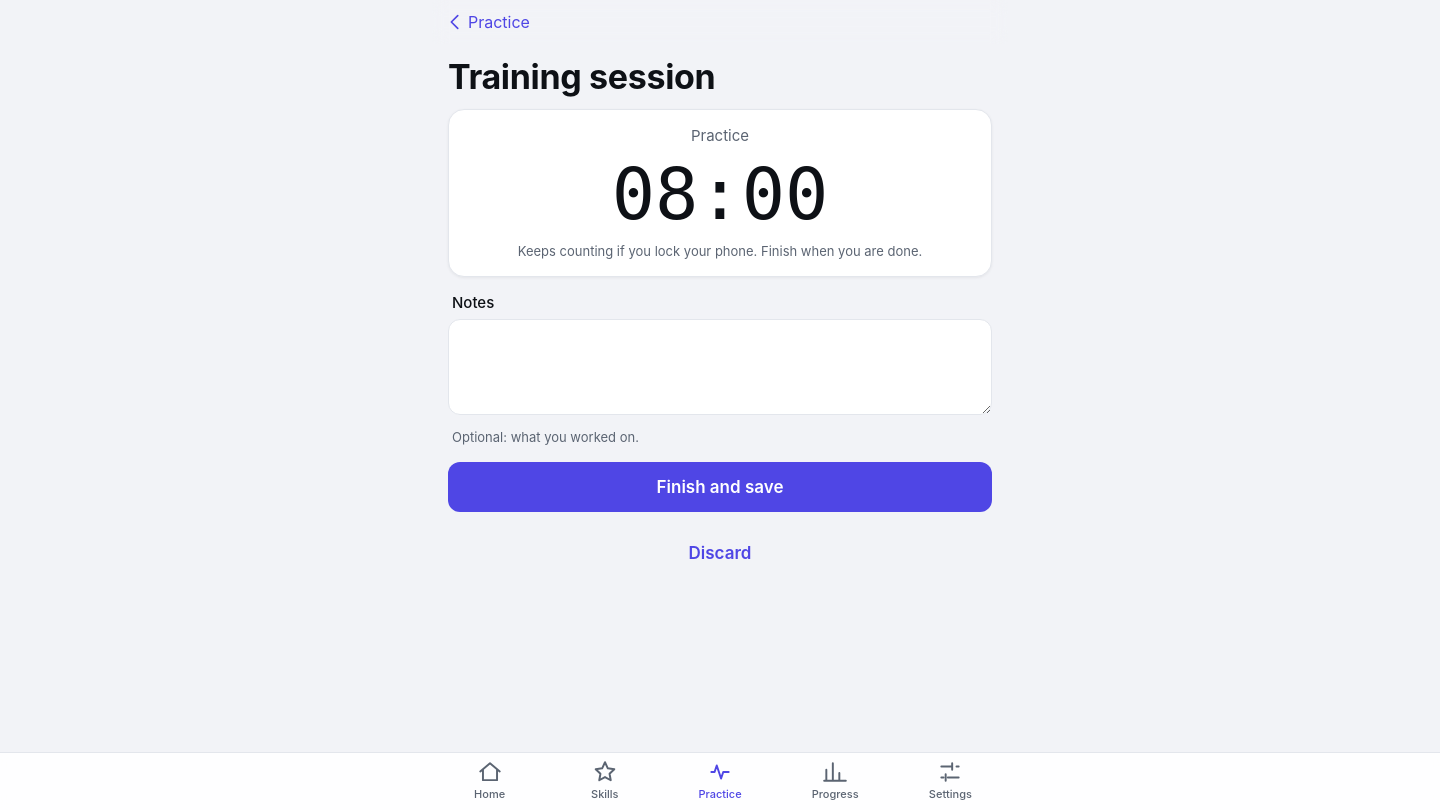
Test: Session timer › finishing records the session, awards XP once, and shows what it earned
Later steps or results of the test are not shown.
In the text box labelled "Notes": coordinates (720, 367) [448,319,992,415], type "streams"
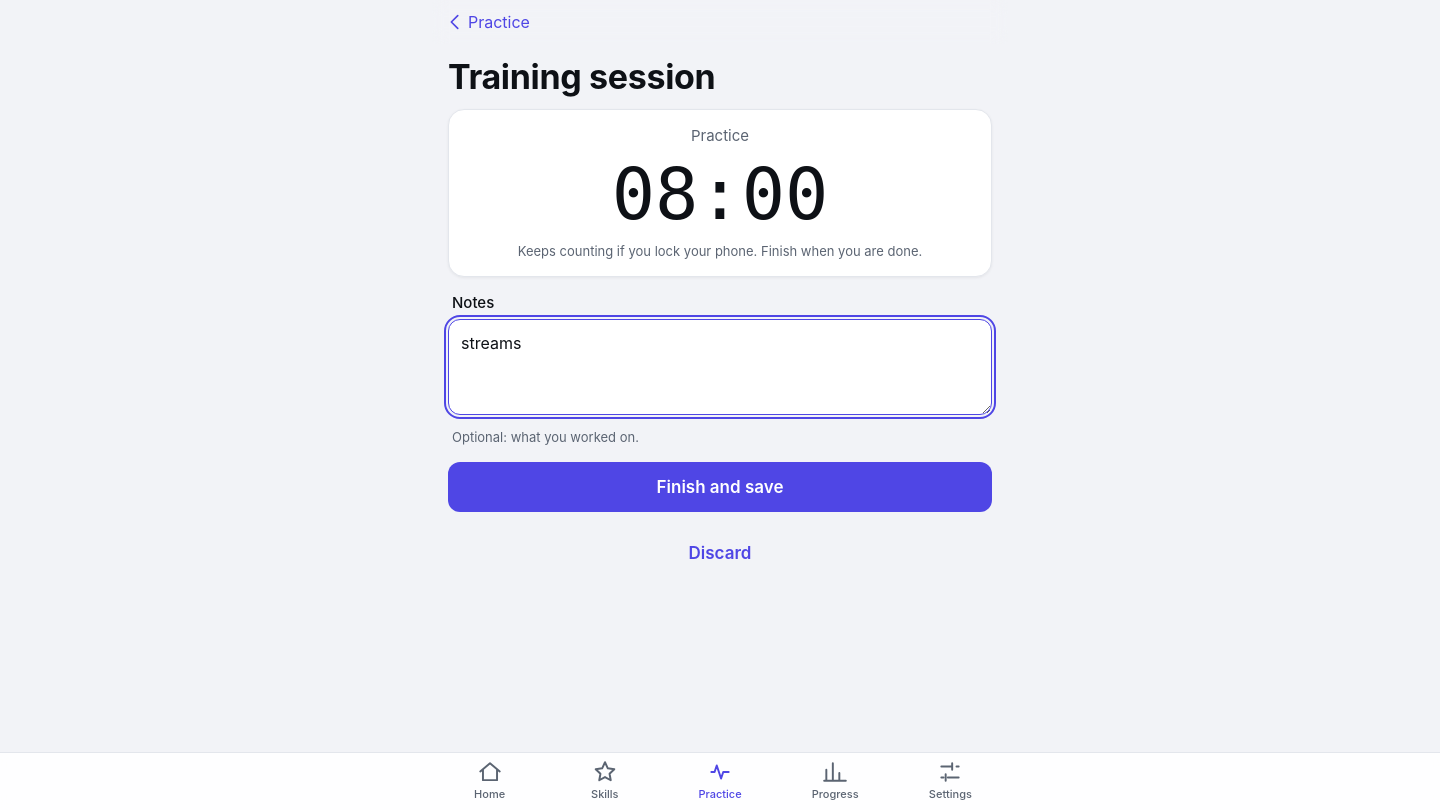
Click the button "Finish and save": coordinates (720, 487) [448,462,992,512]
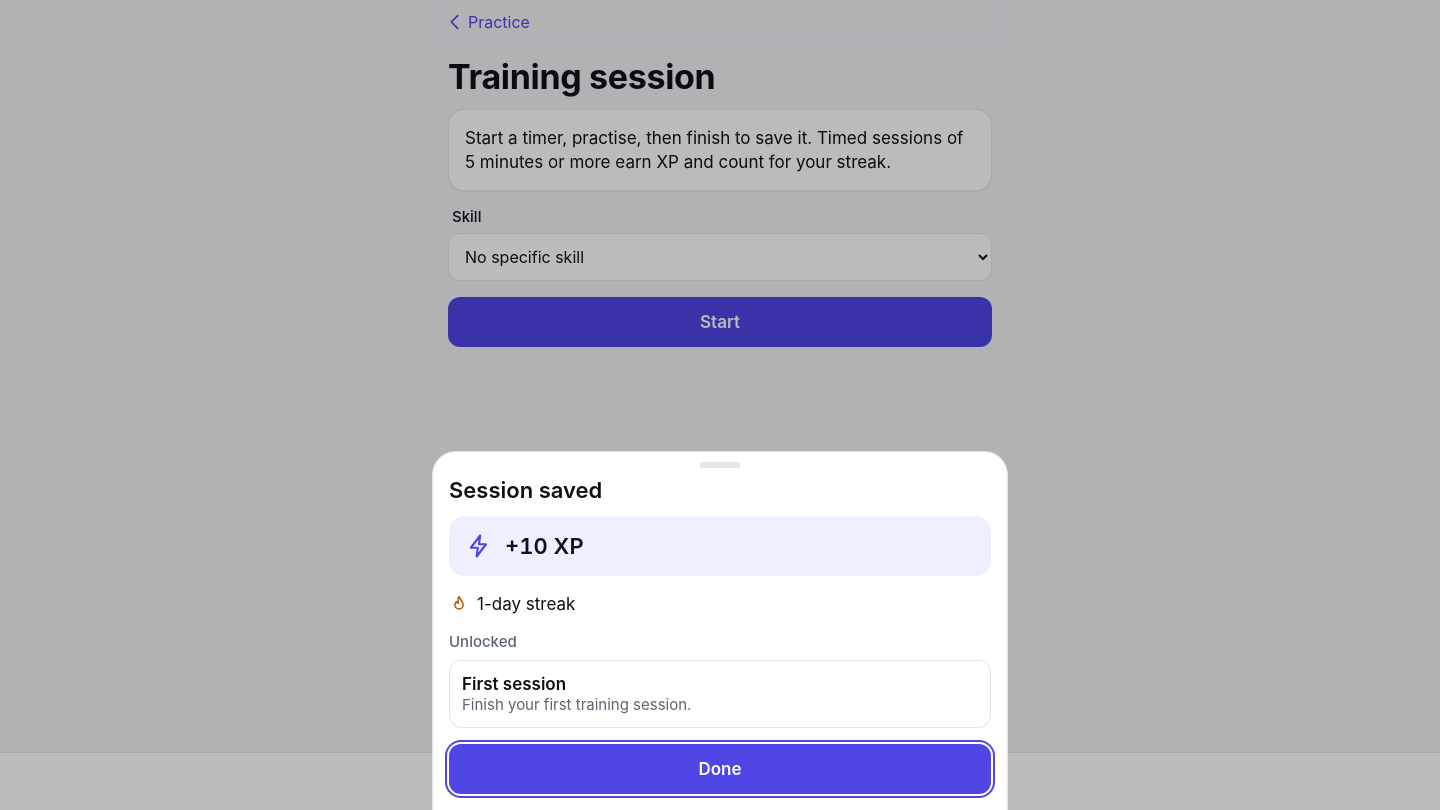
Expected: the text "+10 XP" is shown, [505,532,584,560]
Expected: the text "1-day streak" is shown, [449,594,575,614]
Expected: the text "First session" is shown, [462,674,566,694]
